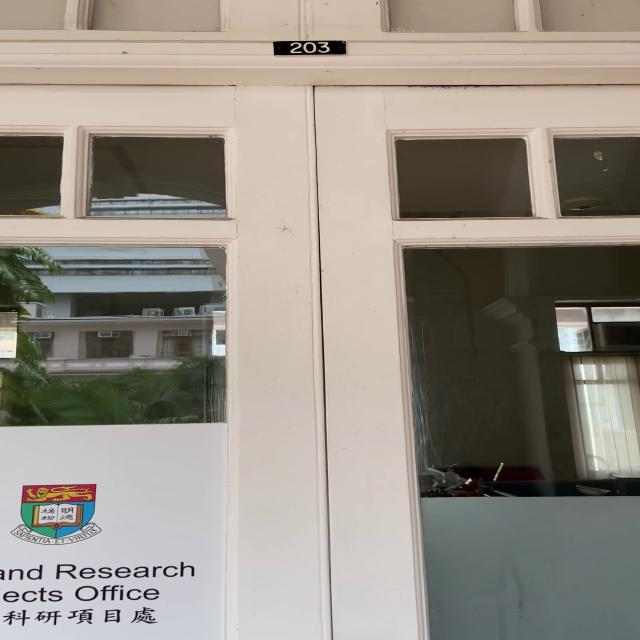room203: (268, 39, 352, 57)
